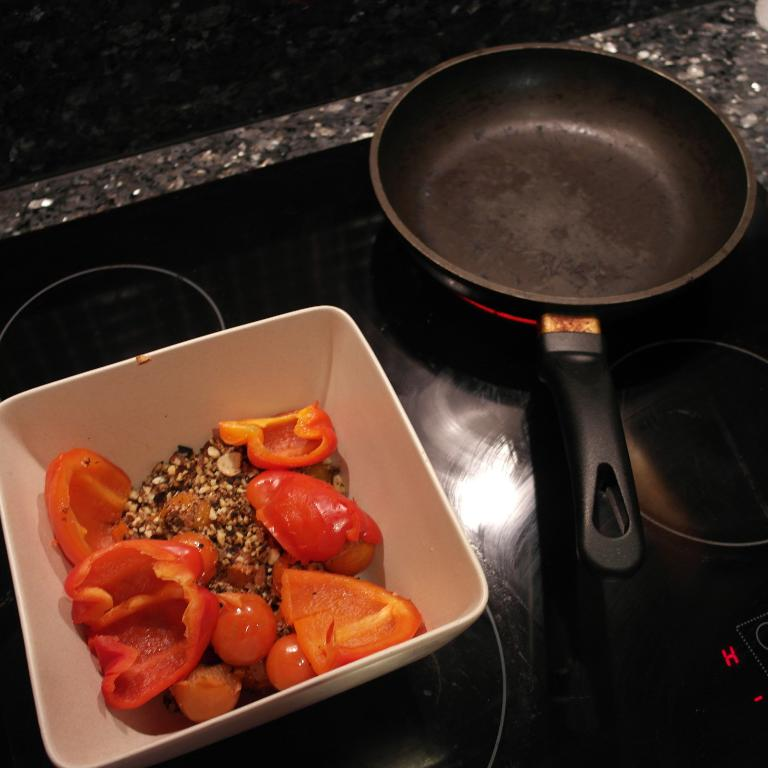Tomato: (240, 466, 380, 584), (278, 568, 429, 671), (216, 399, 336, 468), (202, 607, 275, 693), (170, 664, 247, 721), (170, 534, 218, 588), (264, 635, 312, 687)
